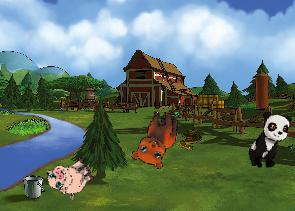bear: (129, 106, 180, 170)
panda: (244, 107, 294, 174)
pig: (42, 149, 98, 204)
